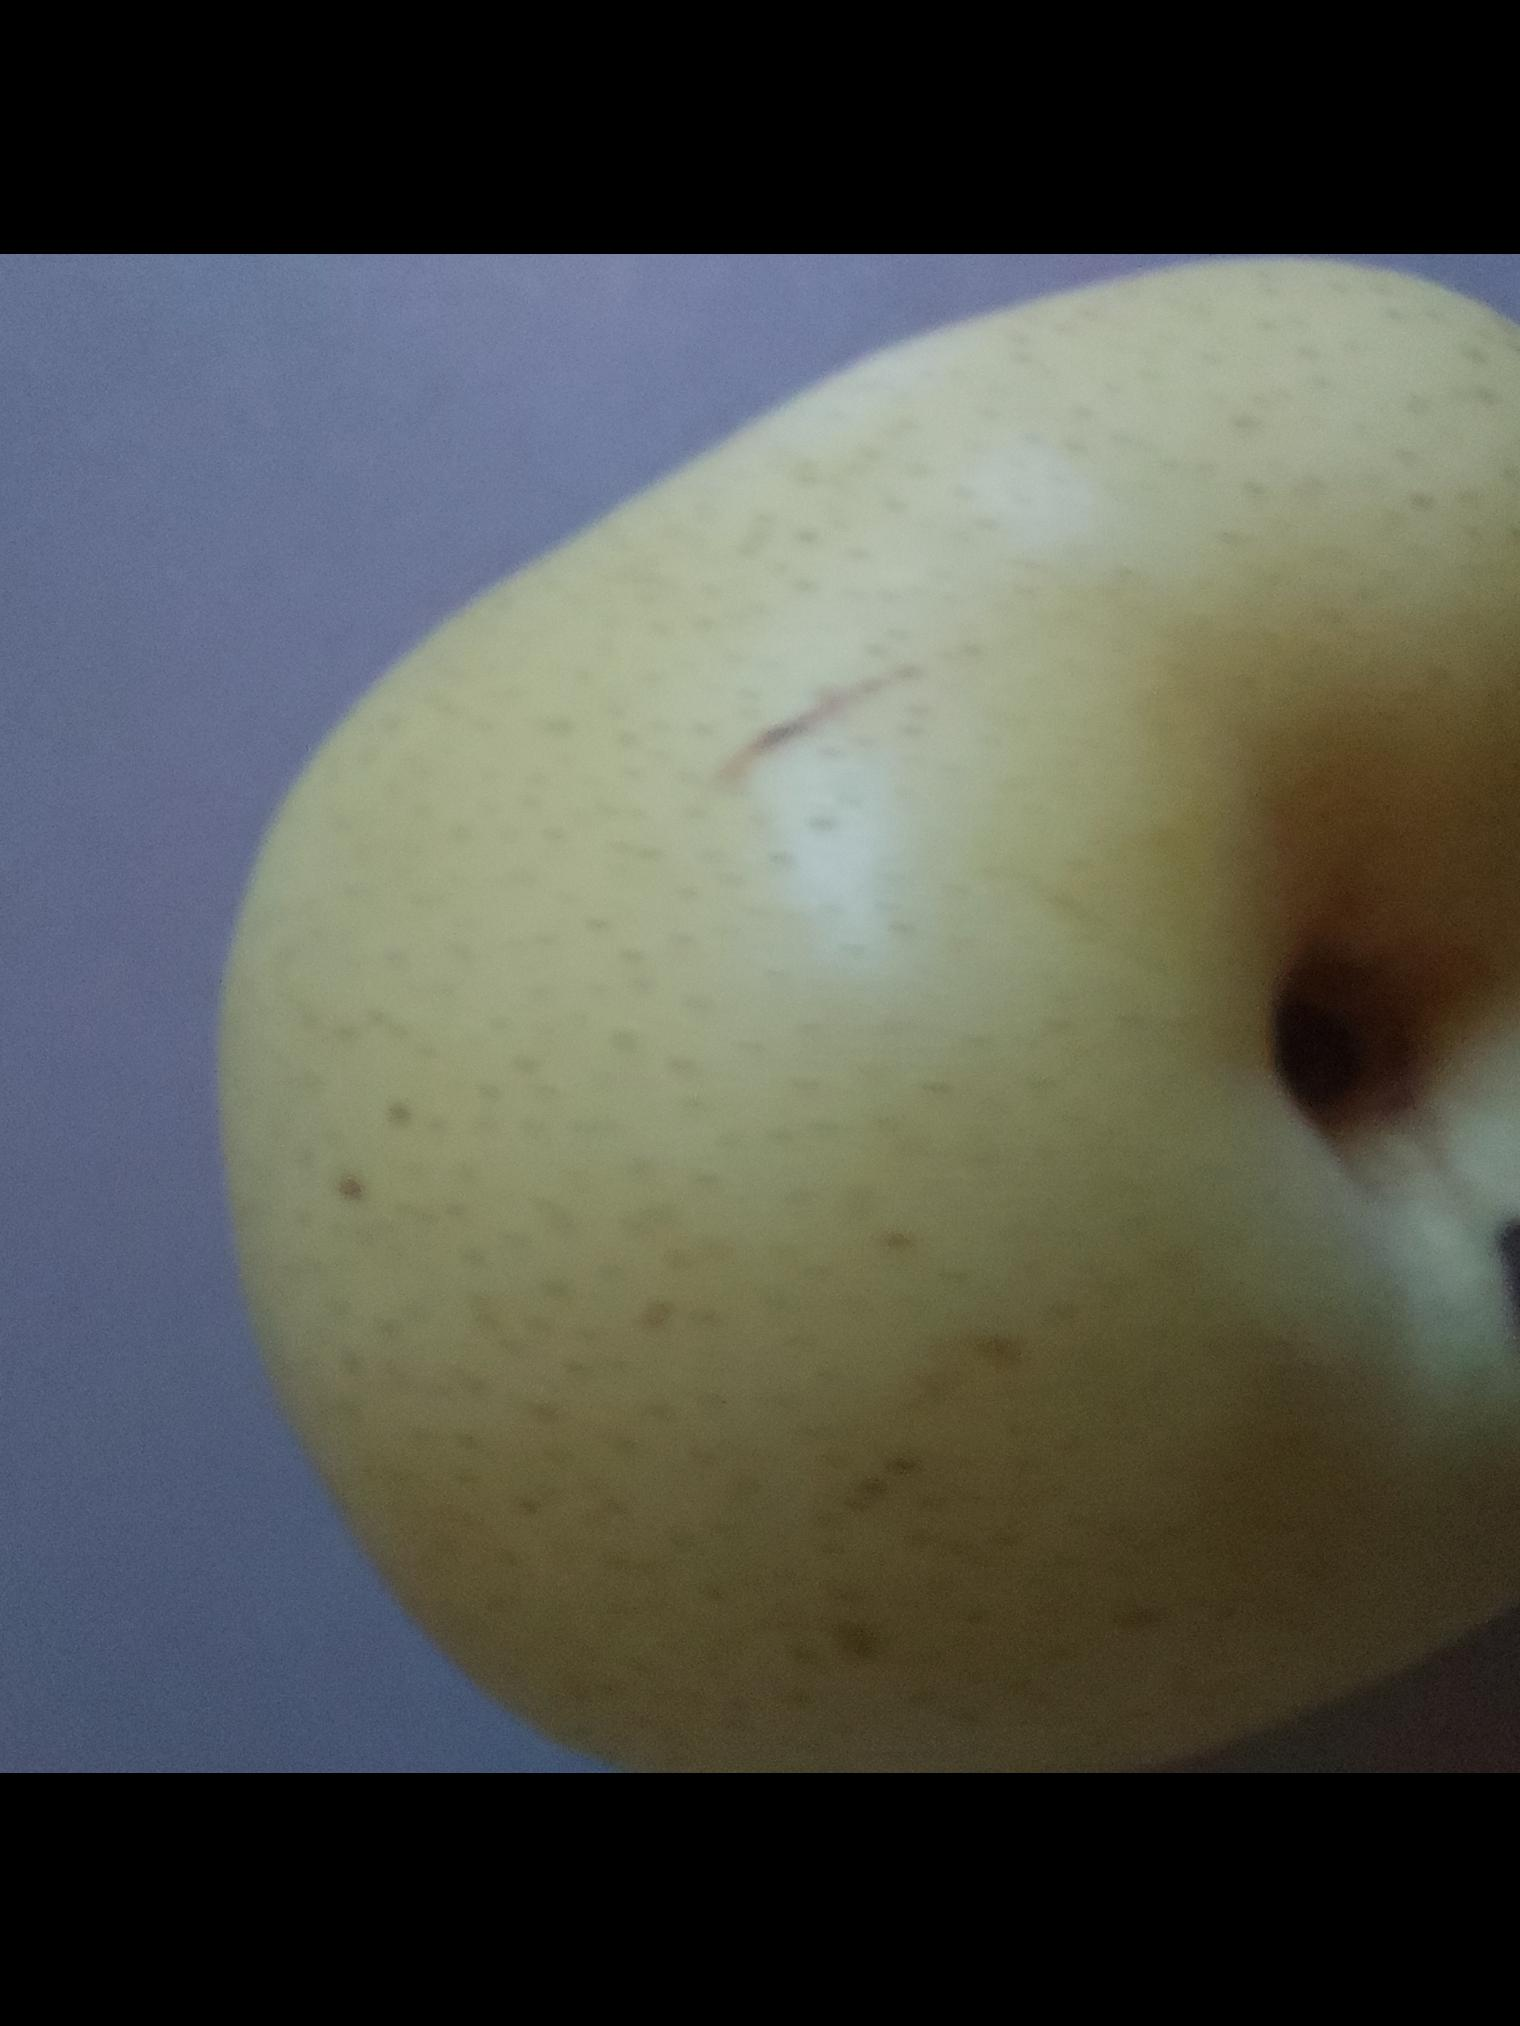Good Pear: (198, 259, 1520, 1774)
